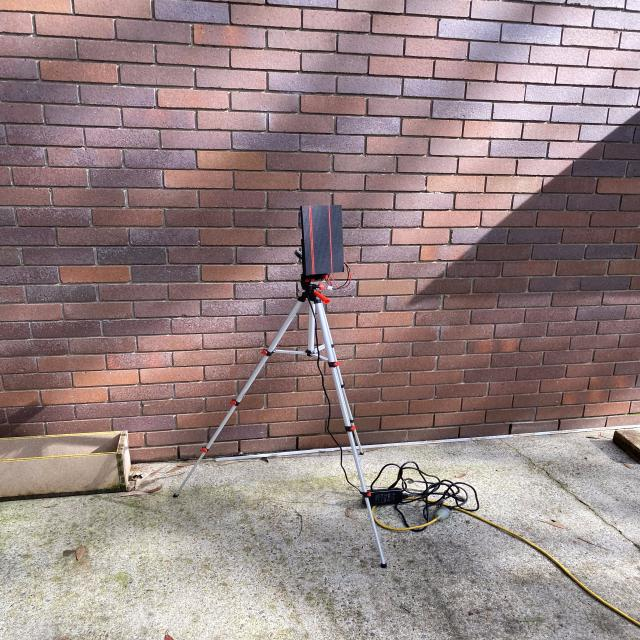matrix: (298, 199, 354, 284)
